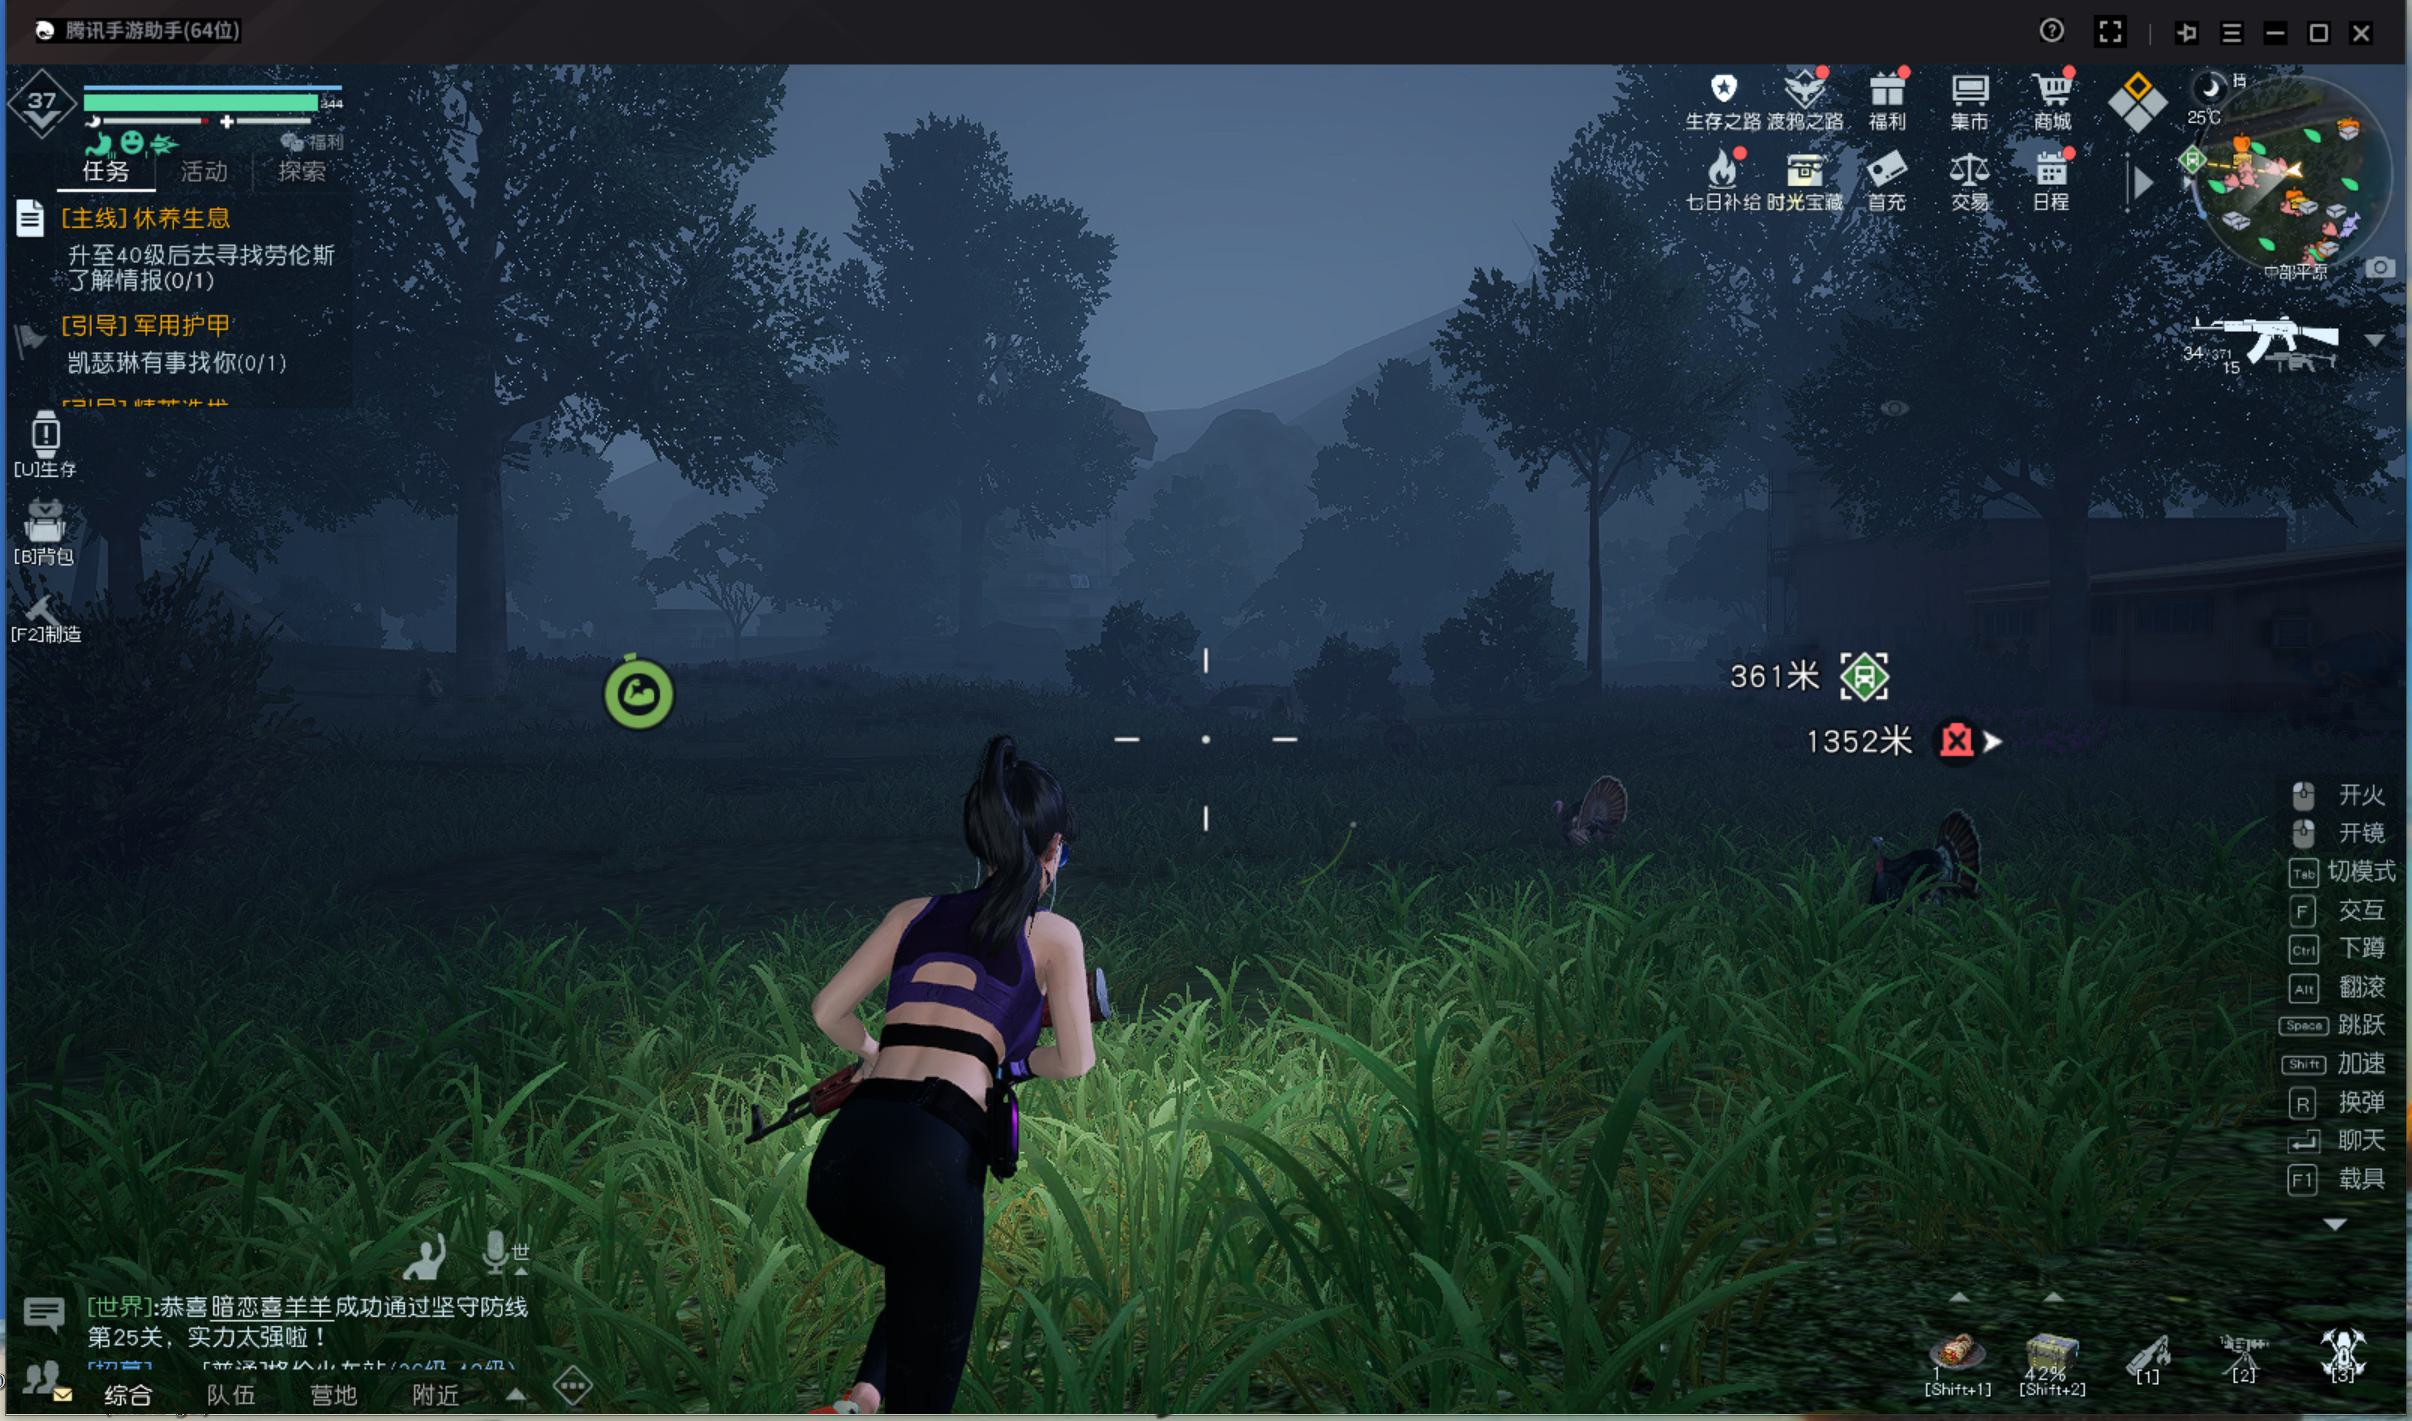tree: (431, 470, 529, 697), (2030, 470, 2104, 761), (947, 518, 988, 680), (1583, 523, 1609, 700)
